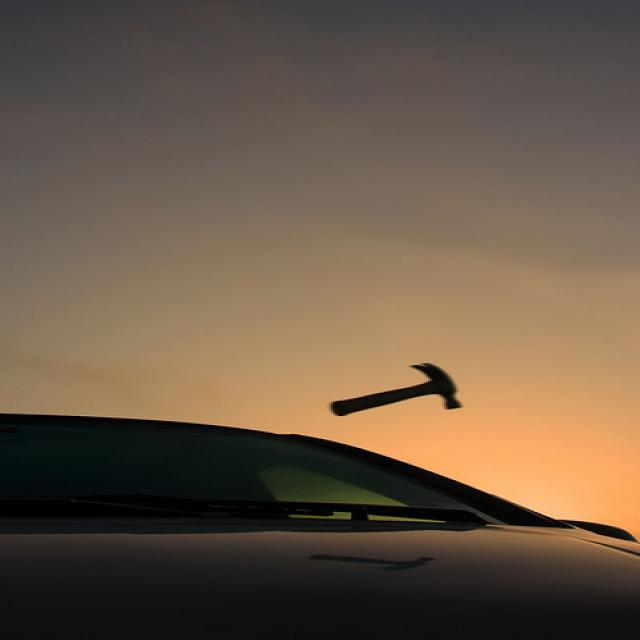hammer: (322, 358, 472, 425)
